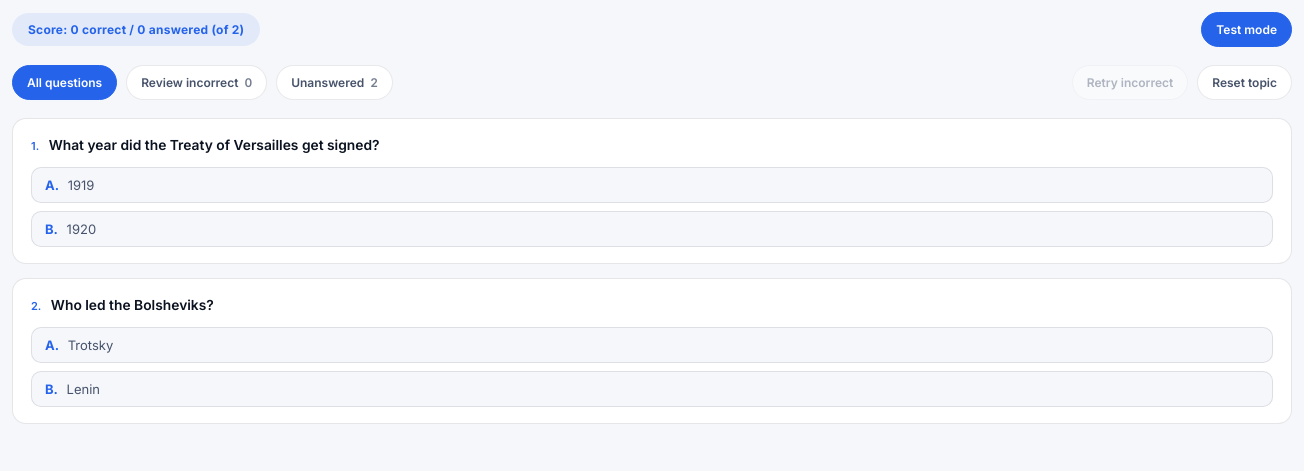
Test: QuizPanel › starts unanswered and locks in a correct answer
expect the text "Score: 0 correct / 0 answered (of 2)" is shown: met, box 12,13 -> 260,46
What coordinates should you click on to do the following:
click the button "A. 1919"
I would click on:
 (50, 185)
Its box is 31,167 -> 1273,203.
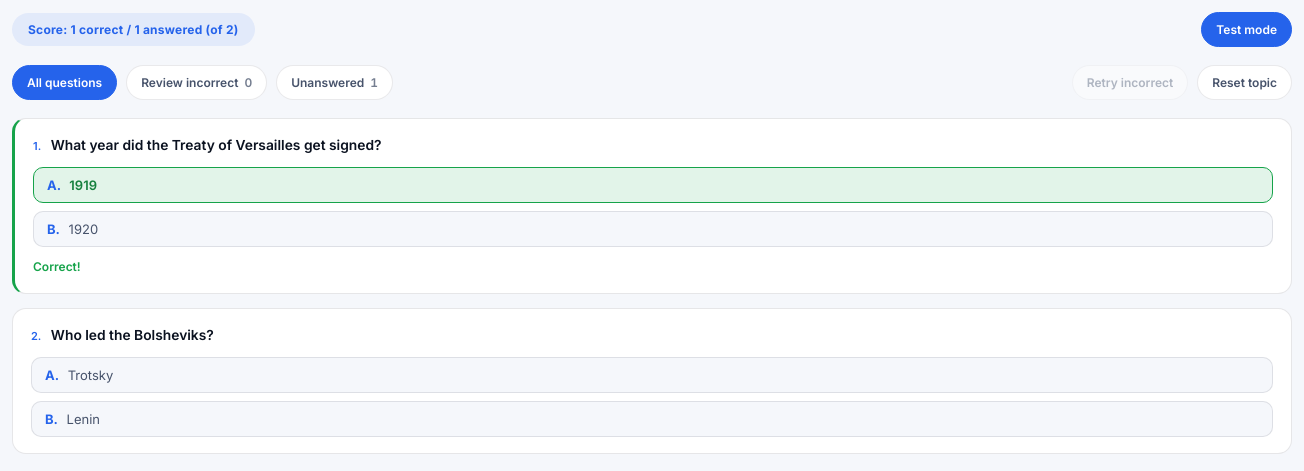
expect the text "Score: 1 correct / 1 answered (of 2)" is shown: met, box 12,13 -> 254,46
expect the text "Correct!" is shown: met, box 33,259 -> 81,274
expect the button "A. 1919" is disabled: met, box 33,167 -> 1273,203
